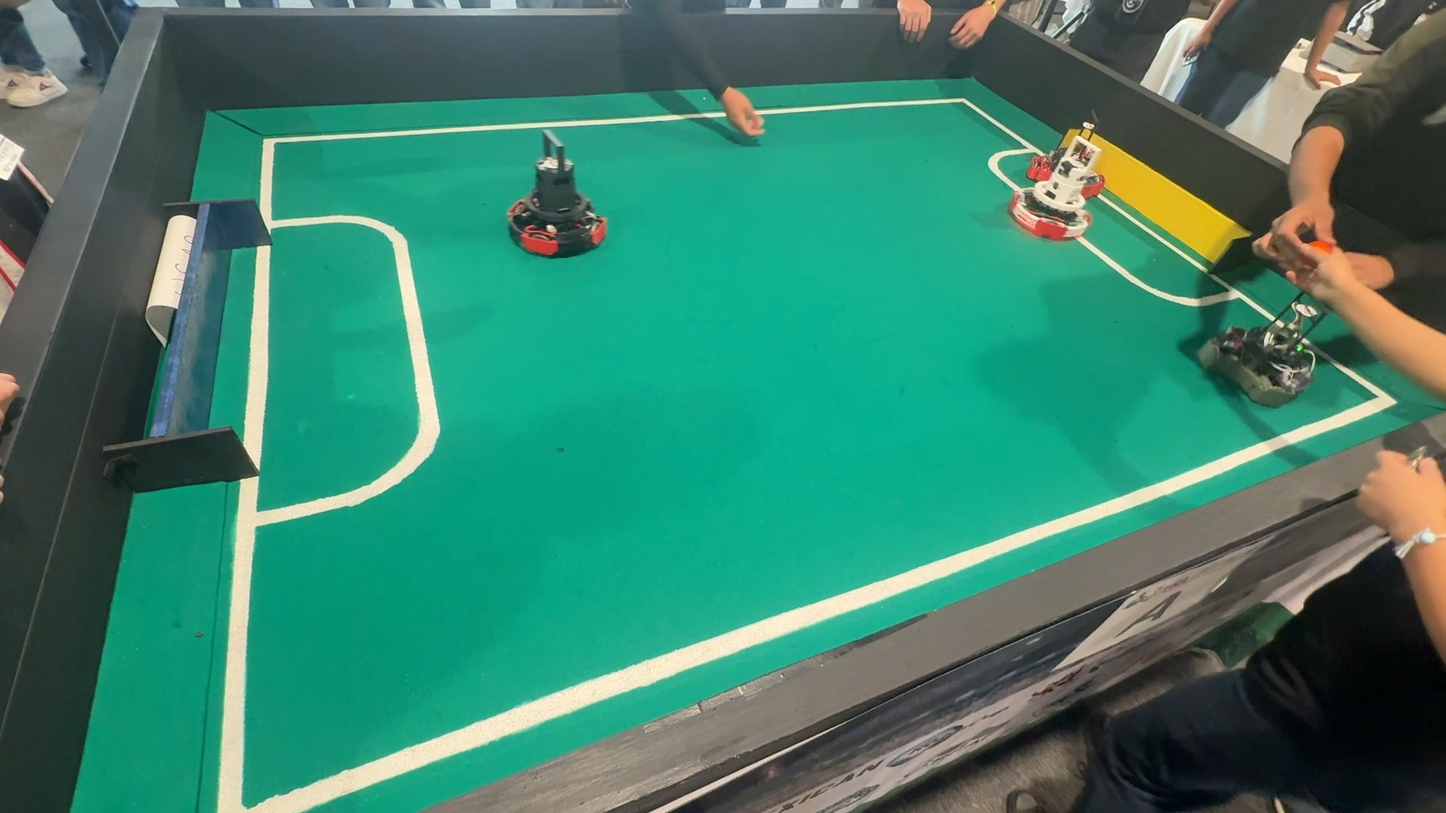Robot: (1183, 287, 1351, 428), (989, 116, 1124, 254), (498, 130, 613, 271)
